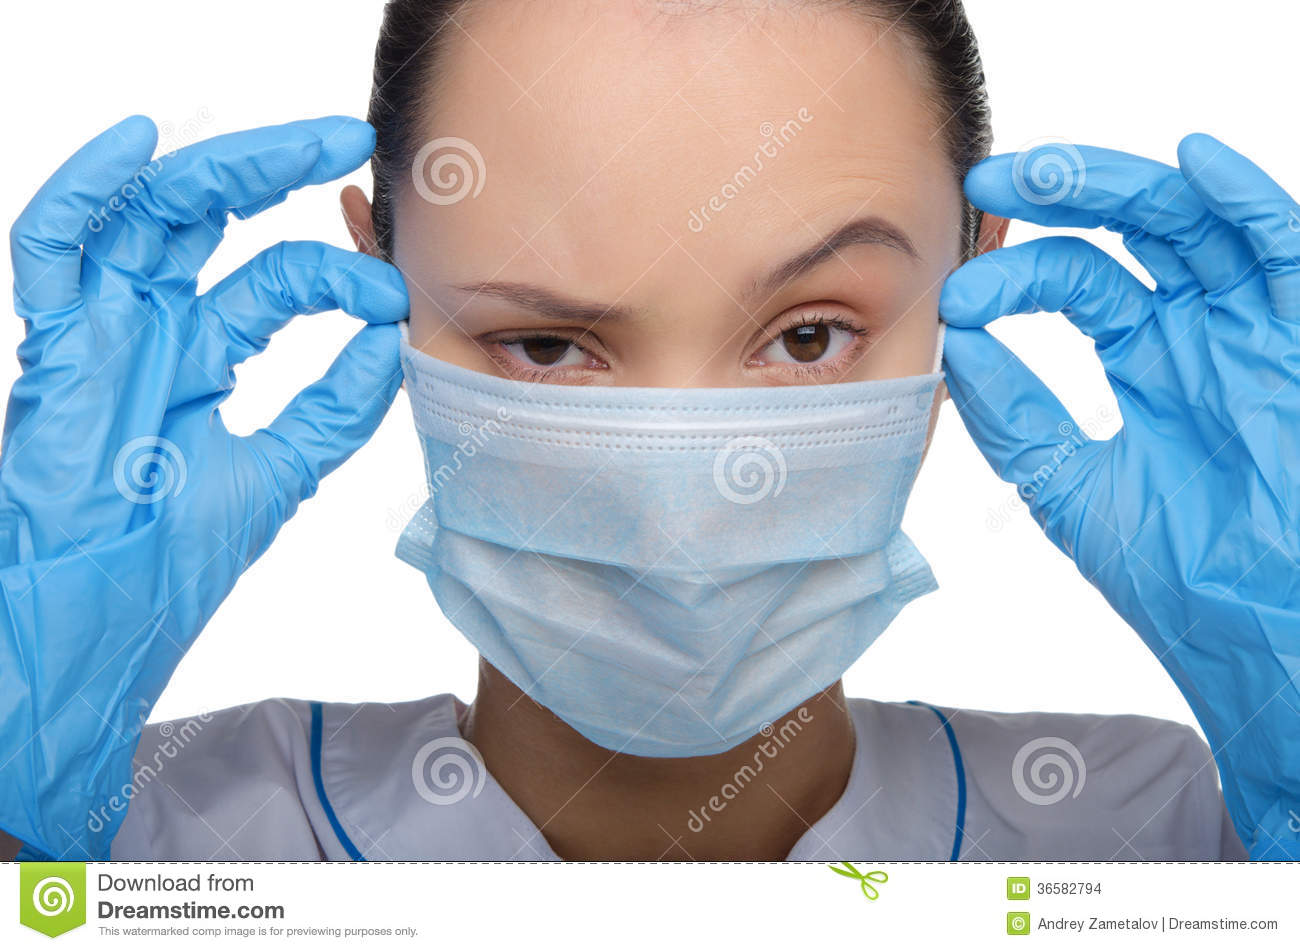mask: (377, 344, 944, 767)
